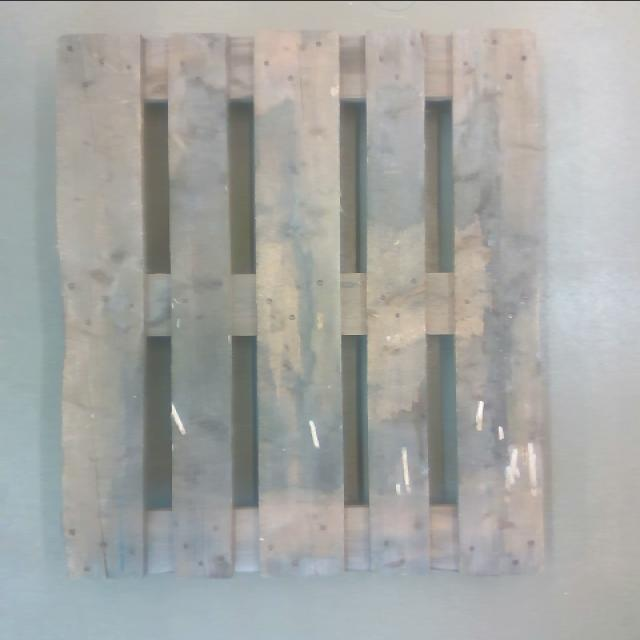pallet: (53, 29, 549, 577)
